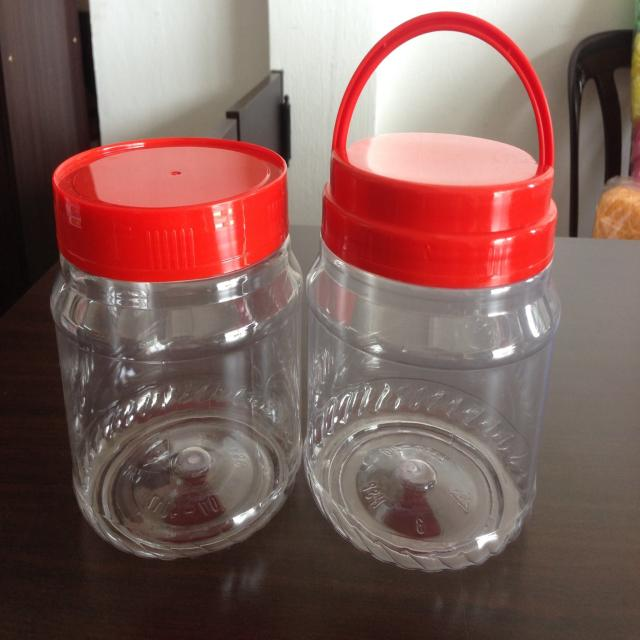plastic: (305, 11, 558, 578), (51, 134, 305, 559)
